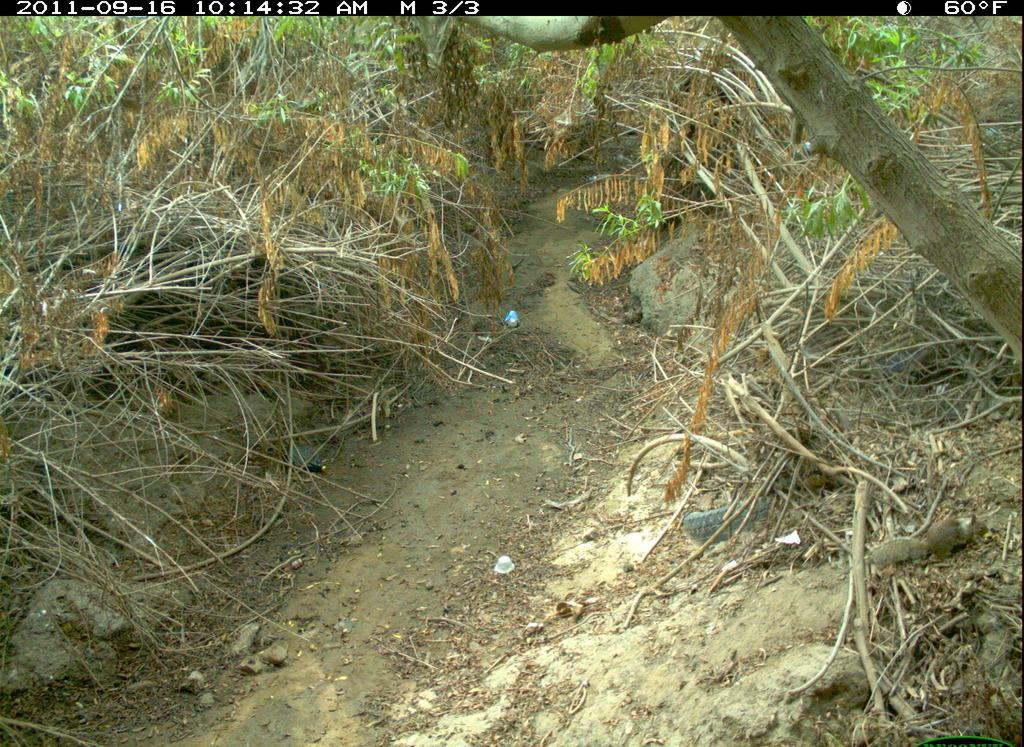squirrel: (868, 514, 993, 574)
